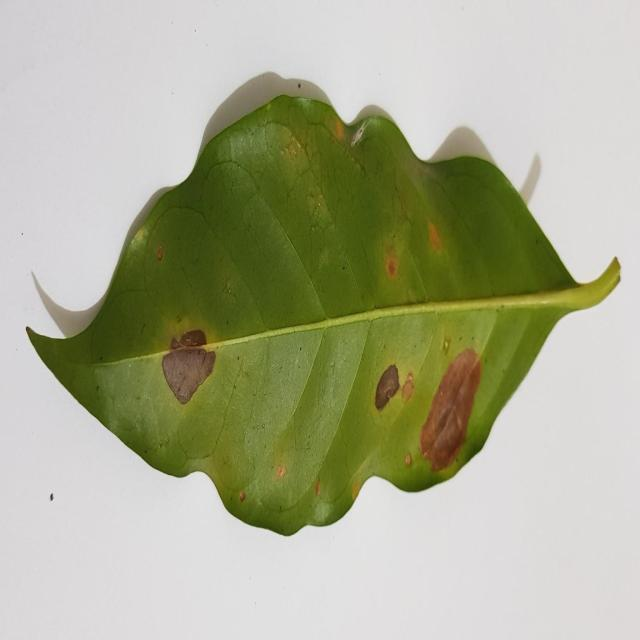Plaga-Minador: (25, 91, 622, 538)
